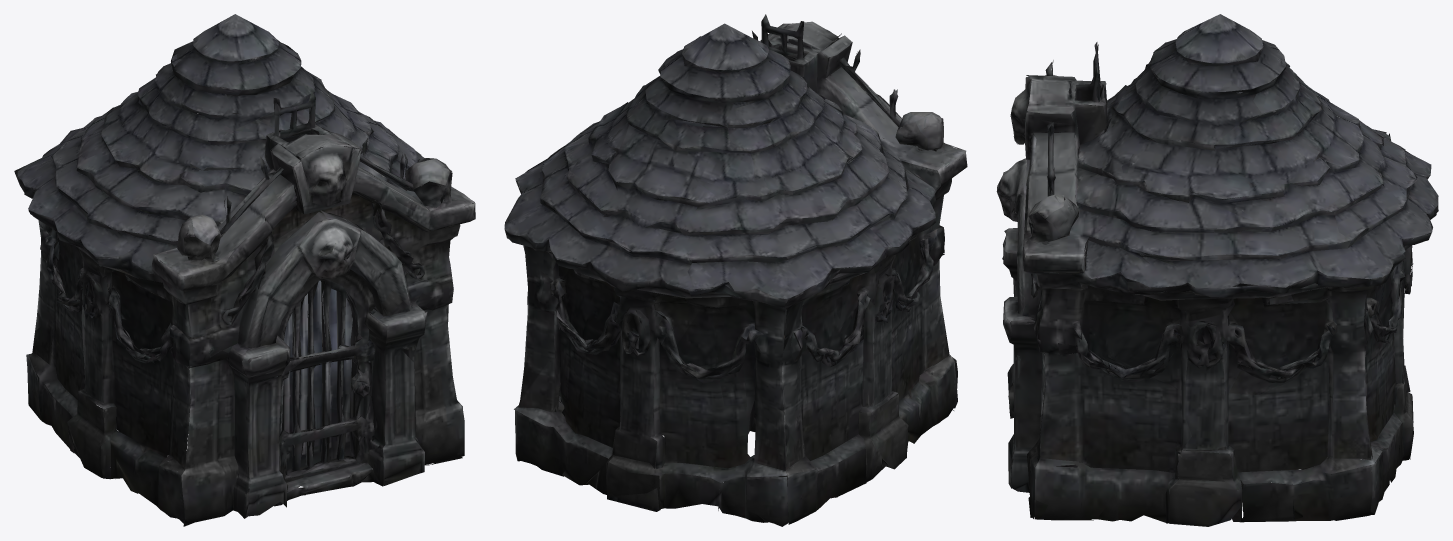
Rendered from crypt.glb.
The picture shows the model from 3 angles, left to right: view 1: azimuth 30°, elevation 25°; view 2: azimuth 150°, elevation 25°; view 3: azimuth 270°, elevation 25°; orthographic projection. The views are drawn at different scales.
Parts seen in each view (by area): view 1: geometry_0; view 2: geometry_0; view 3: geometry_0.
Part boxes in pixels (x1,y1,x2,y2): geometry_0: (14,14,475,526); geometry_0: (504,14,967,526); geometry_0: (996,14,1438,526).
Bounding box in the file's own units: 0.8989 × 1.01 × 0.9238.
1 material, 1 textured.
